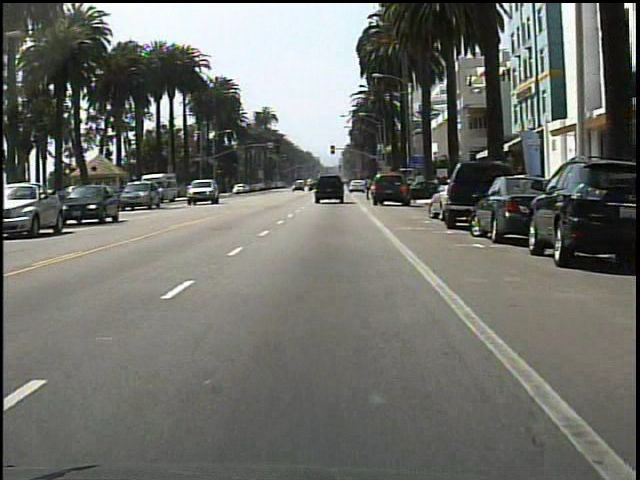person: (361, 173, 377, 204)
